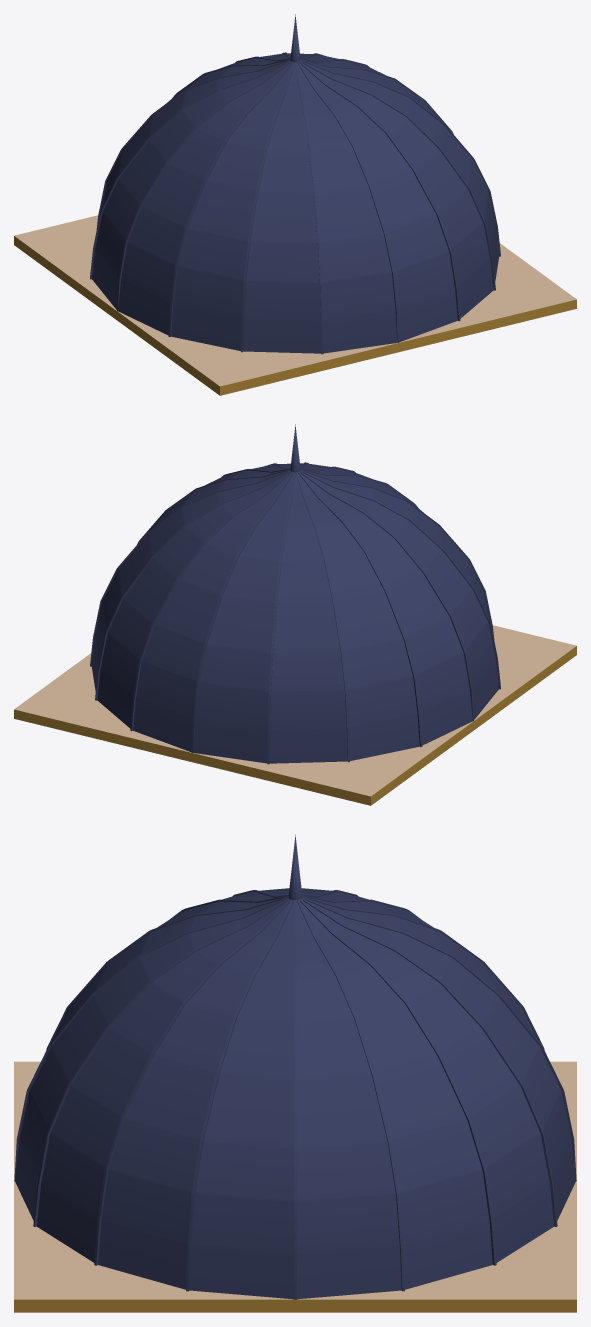
The model's file is Dome-Atl.fbx.
3 views of the same model, one above another, from view 1: azimuth 30°, elevation 25°; view 2: azimuth 150°, elevation 25°; view 3: azimuth 270°, elevation 25° (orthographic). The views are drawn at different scales.
Parts seen in each view (by area): view 1: Dome, FloorDome; view 2: Dome, FloorDome; view 3: Dome, FloorDome.
Part boxes in pixels (box(x1,y1,x2,y2)): Dome: box(90, 14, 500, 354); FloorDome: box(14, 215, 576, 395); Dome: box(90, 424, 500, 764); FloorDome: box(14, 625, 576, 805); Dome: box(14, 834, 576, 1299); FloorDome: box(14, 1061, 576, 1312).
Size of the model in its own units: 800 by 563 by 800.
